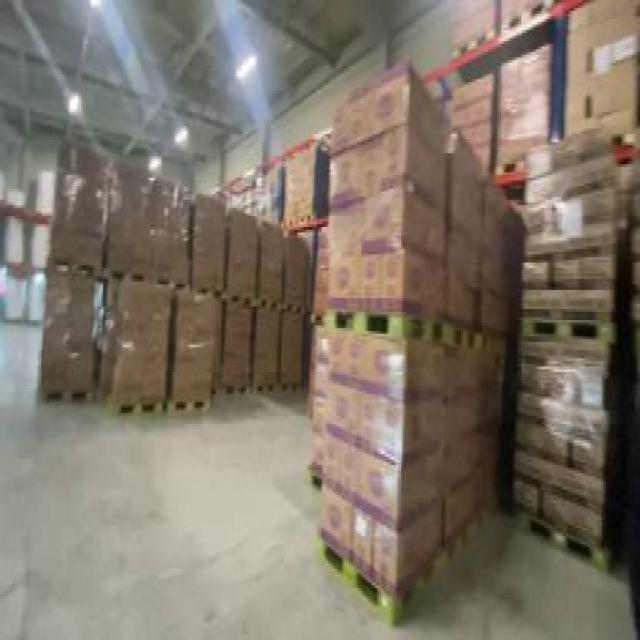box: (317, 82, 512, 594), (40, 145, 308, 421), (514, 148, 618, 566), (563, 5, 637, 150), (494, 52, 549, 167), (449, 68, 498, 184), (282, 150, 328, 224)
white_roll: (26, 167, 48, 334), (3, 175, 23, 323)
